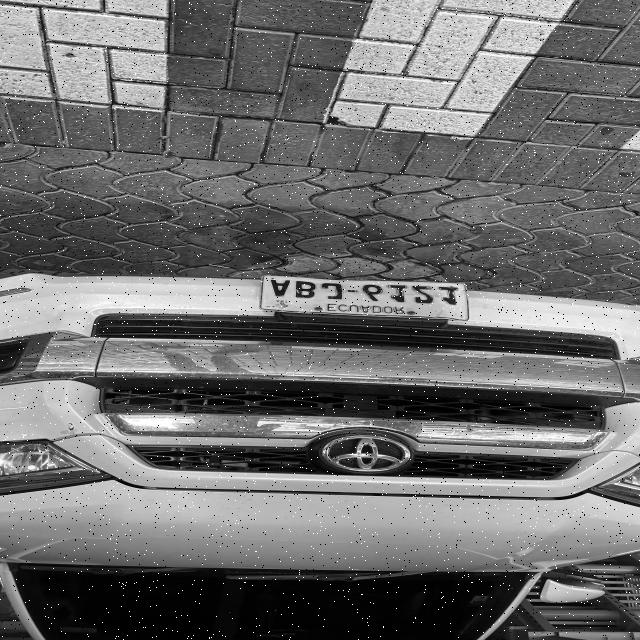Placa: (261, 275, 468, 319)
